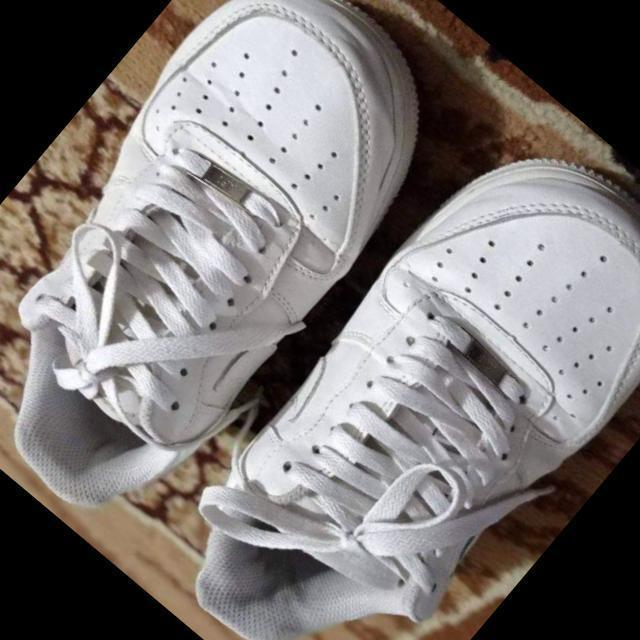nike fake air force: (131, 96, 640, 640), (0, 0, 494, 560)
